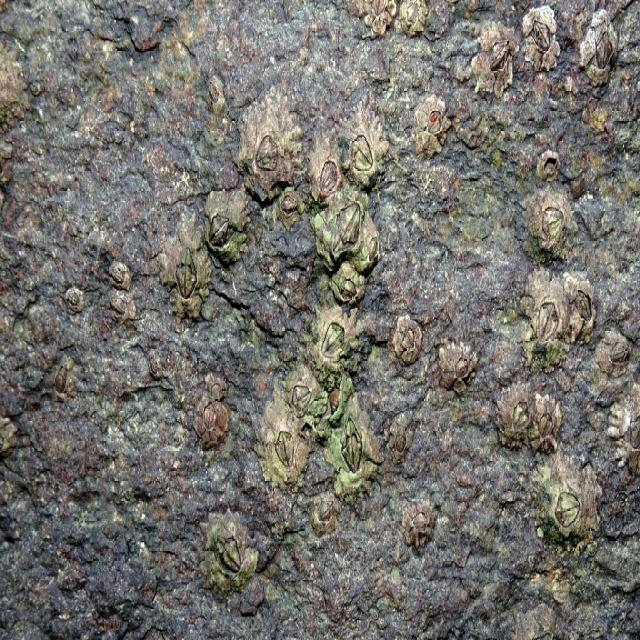barnacles: (526, 458, 596, 557), (159, 215, 213, 328), (202, 505, 263, 594), (240, 96, 296, 191), (327, 413, 386, 494), (202, 186, 252, 264), (524, 282, 566, 371), (262, 410, 307, 488), (187, 398, 243, 460), (577, 10, 622, 87), (342, 118, 388, 193), (521, 193, 572, 255), (316, 193, 363, 257), (474, 20, 516, 90), (283, 350, 325, 420), (497, 374, 535, 448), (440, 332, 481, 398), (410, 99, 454, 160), (602, 313, 634, 391), (401, 507, 445, 563), (391, 302, 424, 376), (567, 265, 597, 342), (530, 10, 562, 80), (316, 310, 351, 373), (46, 355, 82, 416), (310, 140, 342, 203), (535, 136, 570, 186), (332, 261, 366, 308), (103, 293, 134, 330)
